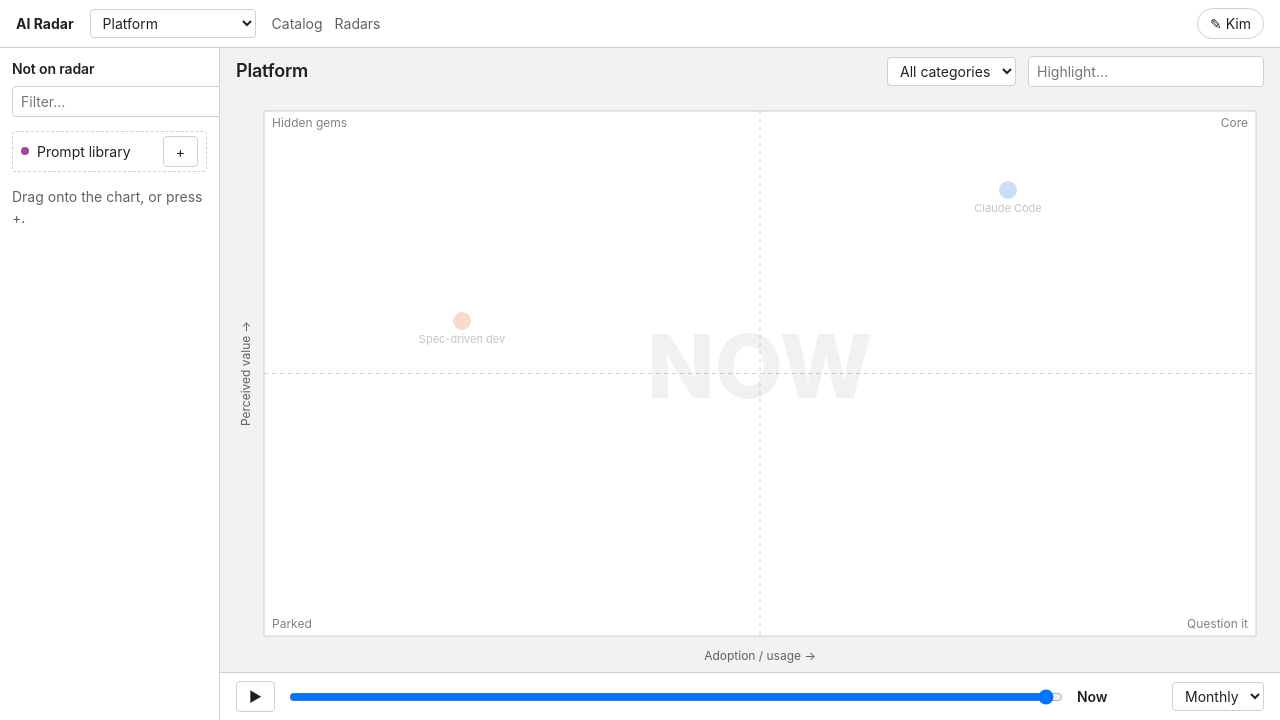
Test: RadarPage (radar scope) › reports failed saves
Click the button named "Place Prompt library" at (180, 151), box [163,136,198,166]
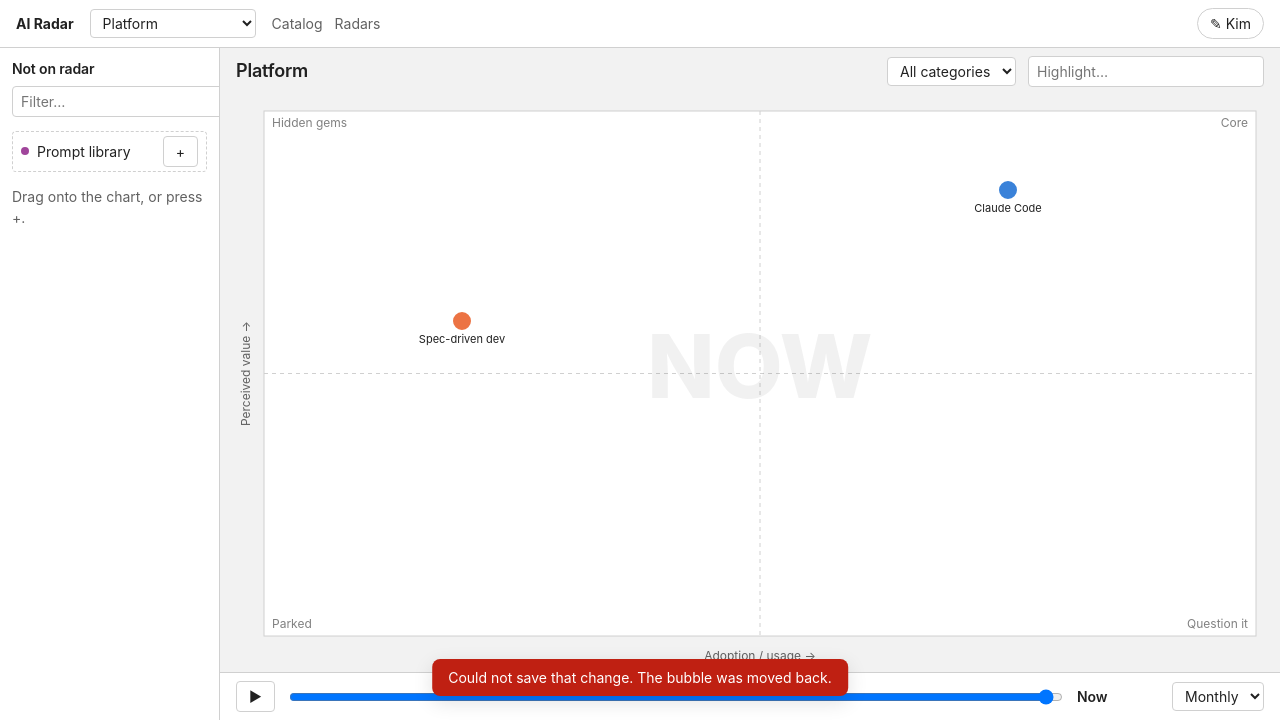
Expected: the text "Could not save that change. The bubble was moved back." is shown, [448,667,832,688]
